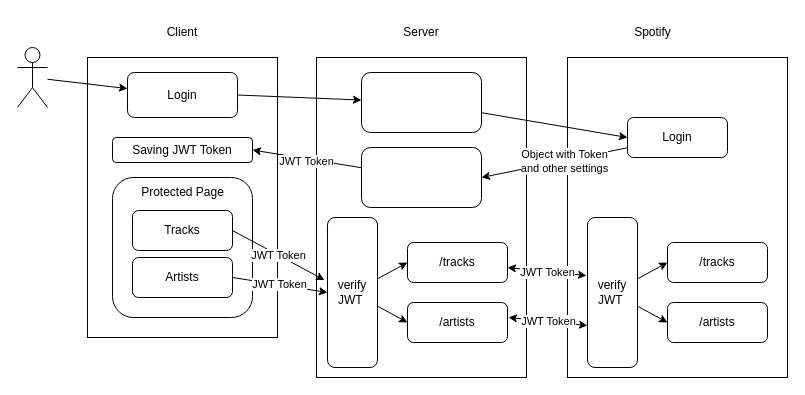
This 805x395 diagram has some shape labels left out. The shapes that lost their labels are listed below. From the top down, each one's centre as x and y in pixels, then its label:
At point (32, 77): "Actor".
At point (421, 102): "Redirect OAuth Spotify".
At point (421, 177): "/callback".
